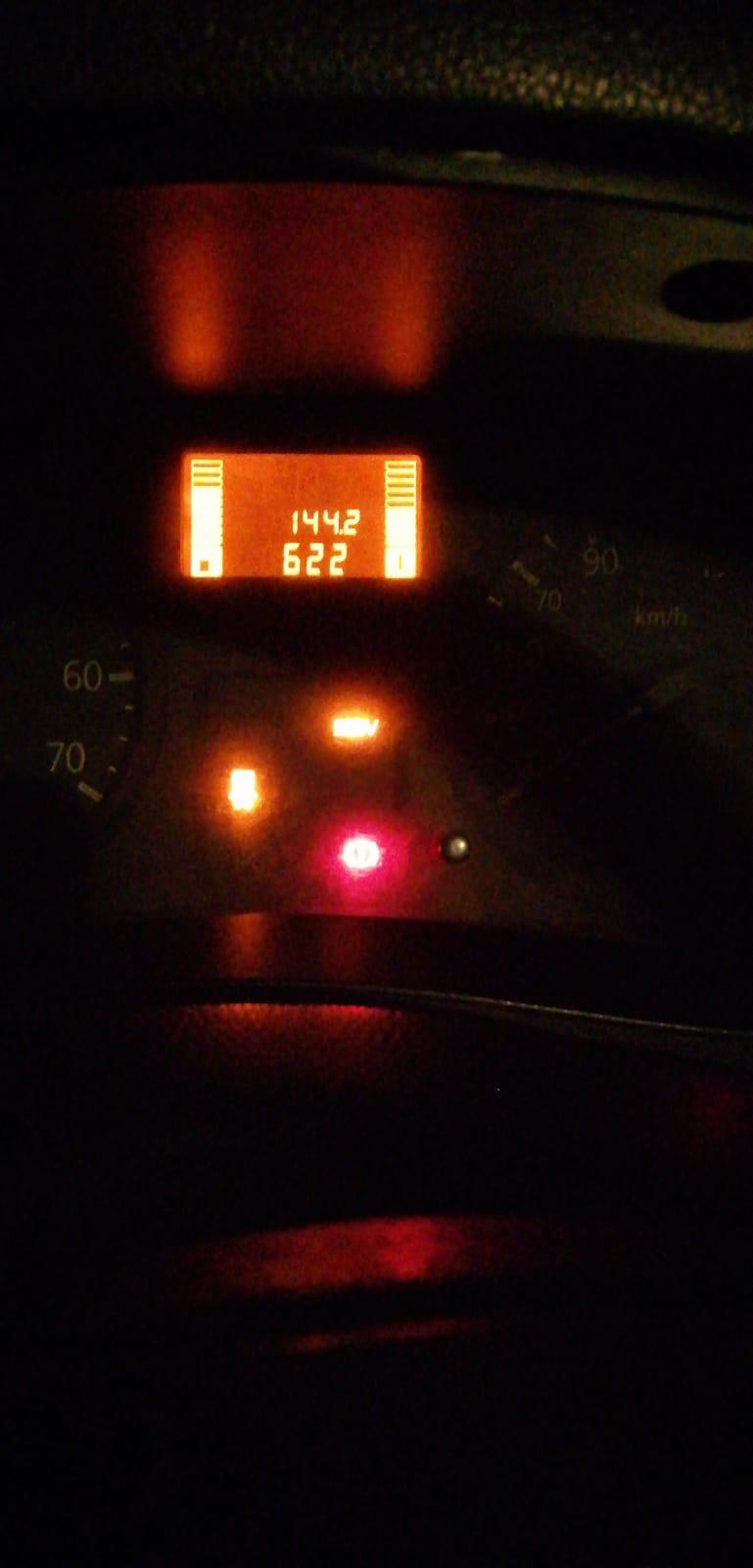-: (338, 527, 343, 535)
1: (290, 510, 299, 535)
2: (328, 541, 347, 576), (305, 541, 324, 575), (343, 508, 360, 535)
4: (322, 508, 339, 535), (301, 508, 318, 535)
6: (281, 541, 301, 576)
odometer: (174, 448, 425, 583)
